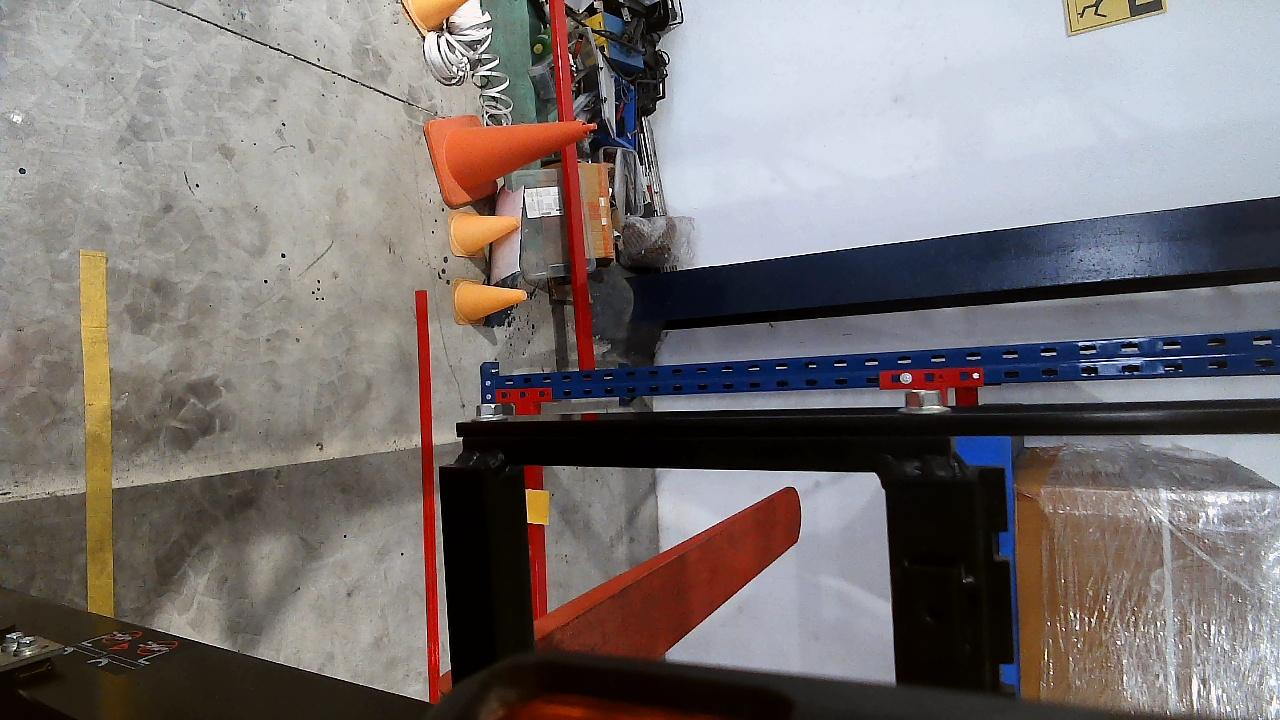red_line: (414, 290, 446, 703)
yellow_line: (80, 249, 114, 616)
